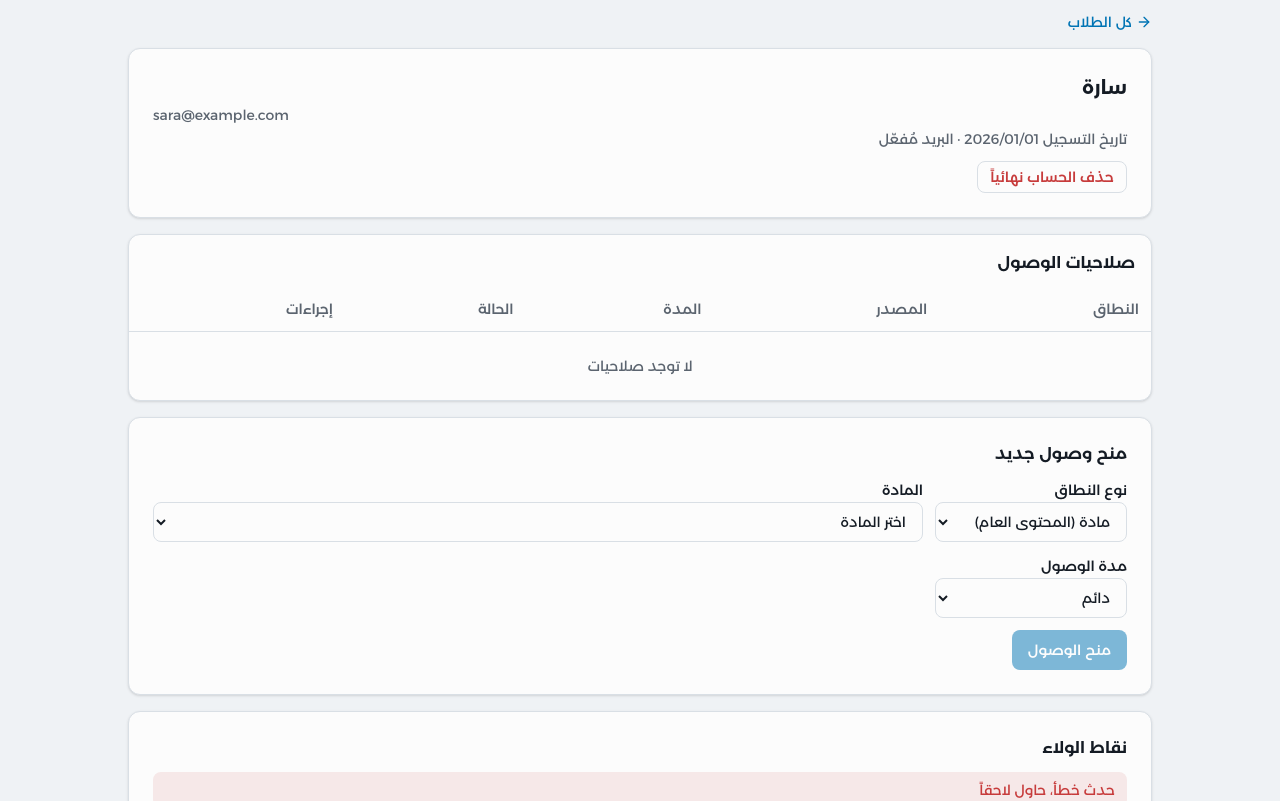
Scenario: student account deletion (§33) › deletes on confirmation and shows the account as deleted
The width and height of the screenshot is (1280, 801).
Step 1. Click the button "حذف الحساب نهائياً" → (1052, 177), box [977,161,1127,193]
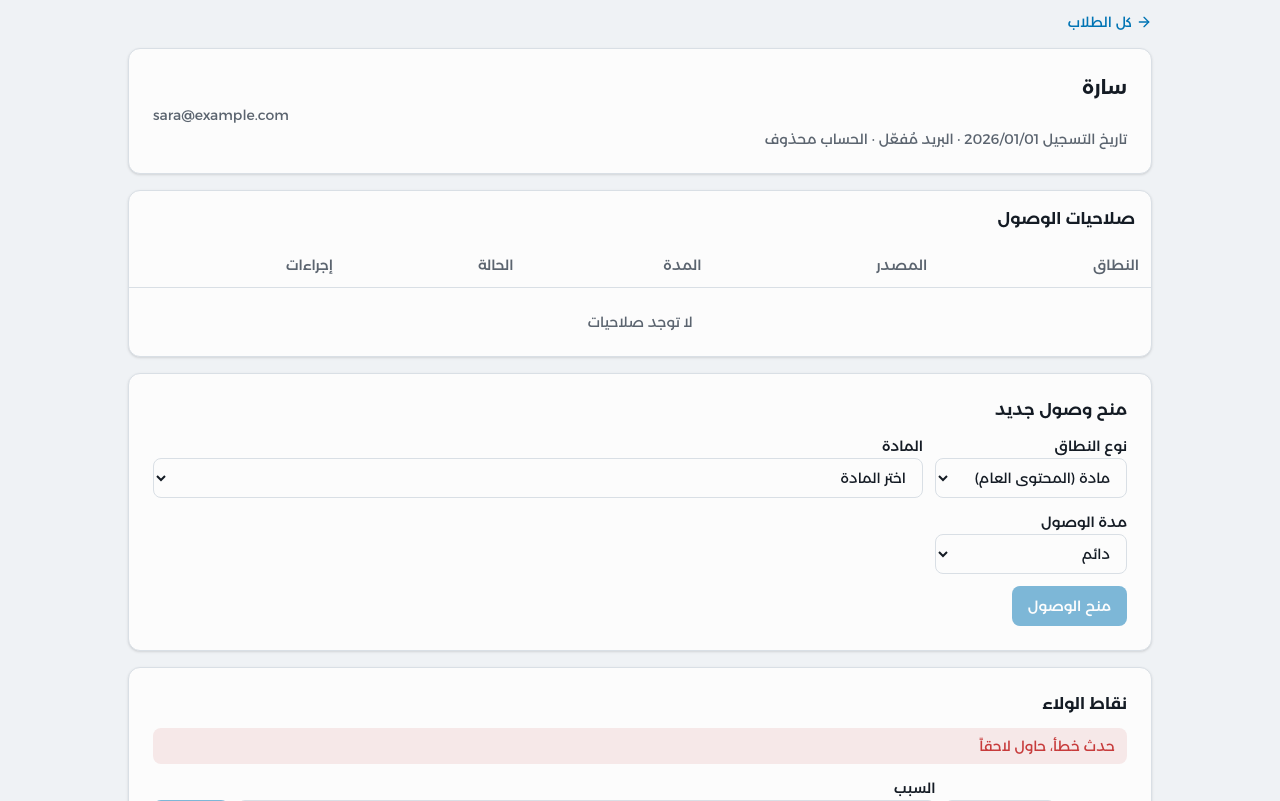
Expected: the text "تاريخ التسجيل 01 /01 /2026 · البريد مُفعّل · الحساب محذوف" is shown, [765,130,1127,148]
Expected: the button "حذف الحساب نهائياً" is gone
